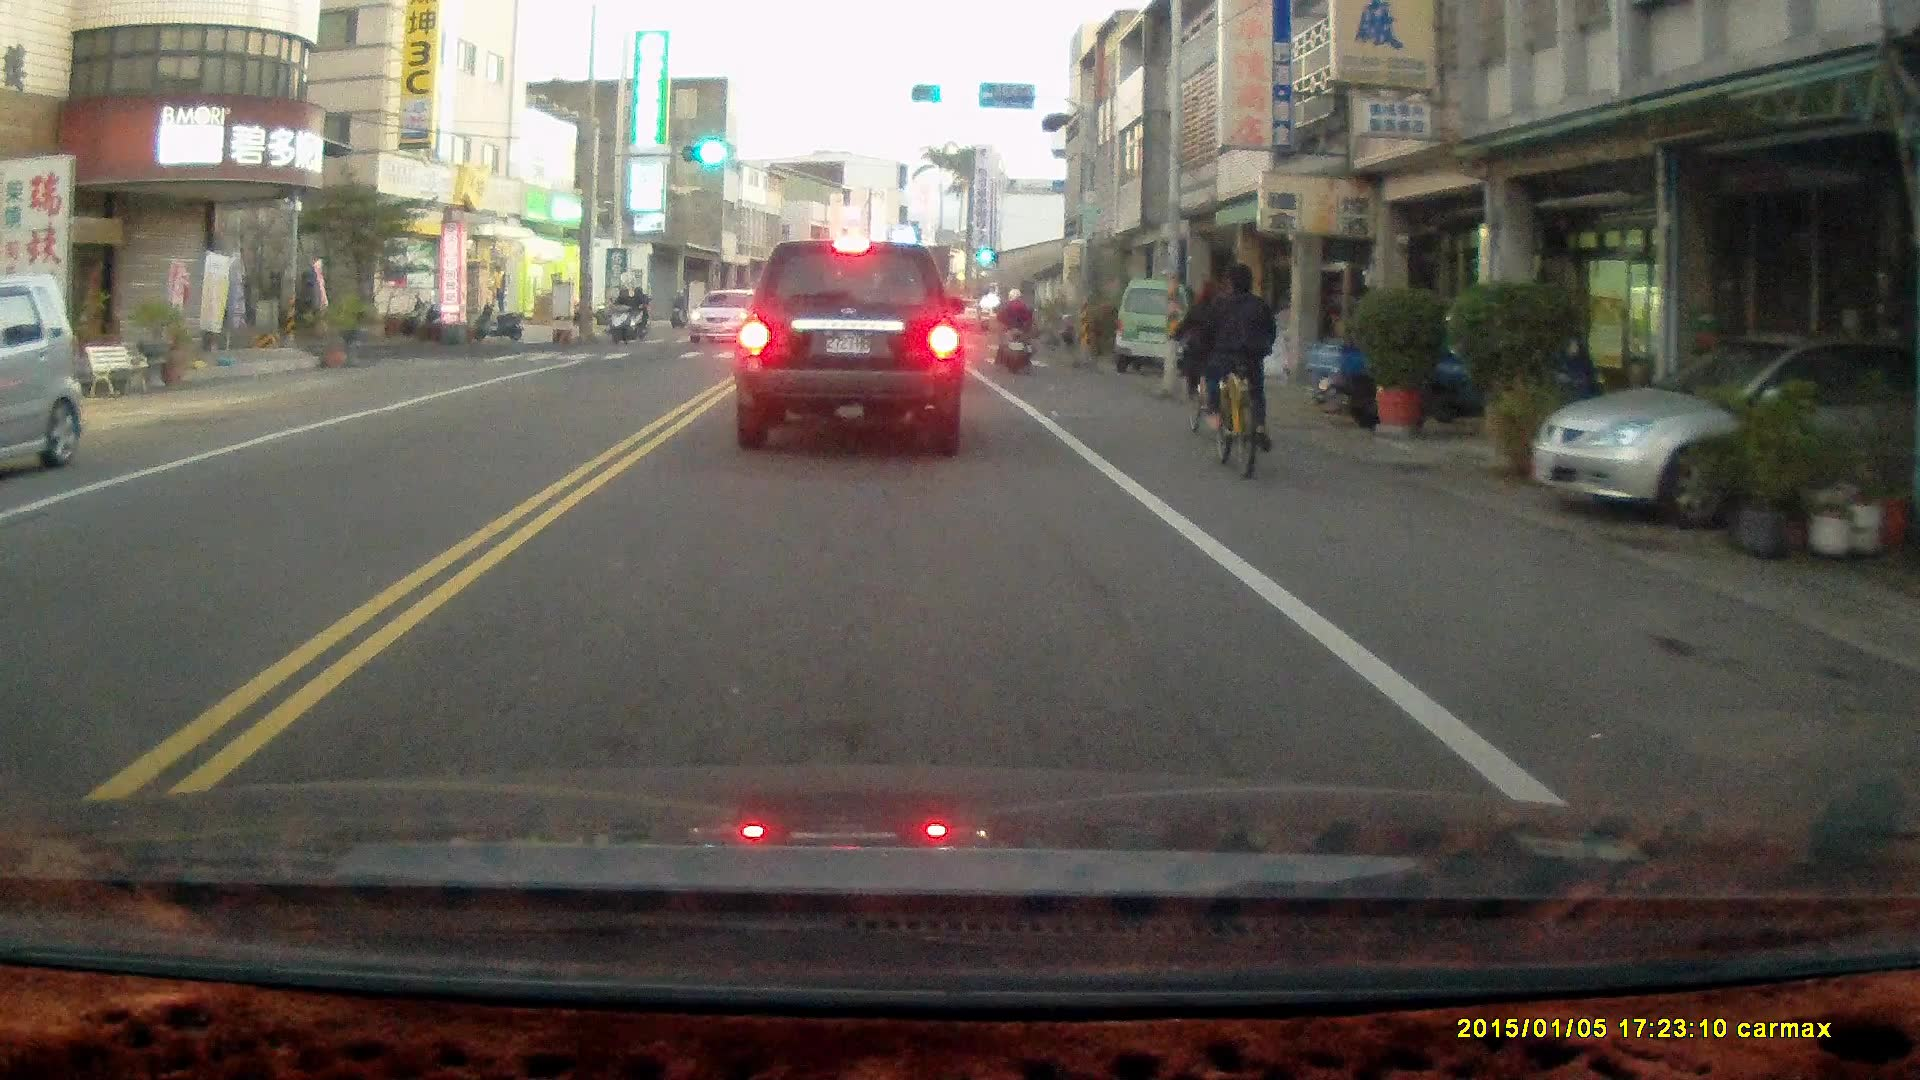pedestrian: (487, 261, 507, 313)
rider: (1197, 262, 1277, 476), (1173, 277, 1235, 444), (988, 285, 1038, 373), (604, 282, 637, 347), (624, 282, 650, 343), (667, 289, 688, 325)
vehicle: (1529, 332, 1920, 532), (738, 231, 967, 456), (1, 272, 90, 482), (1119, 278, 1212, 369), (682, 286, 778, 346)
